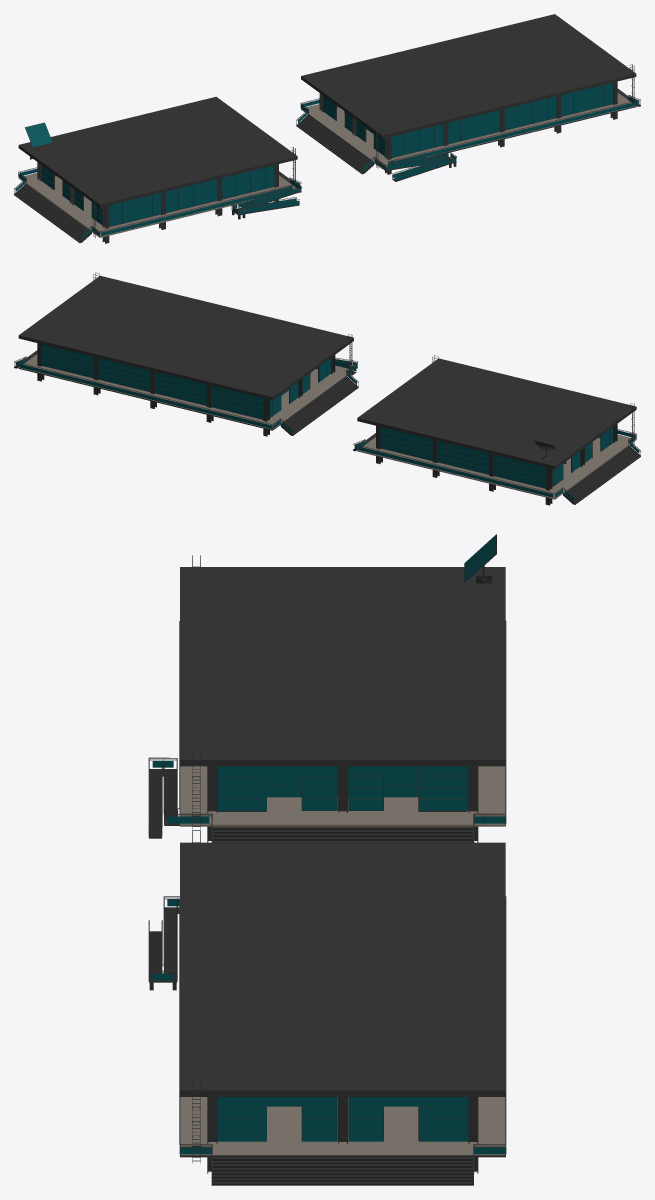
The picture shows the model from 3 angles, top to bottom: view 1: azimuth 30°, elevation 25°; view 2: azimuth 150°, elevation 25°; view 3: azimuth 270°, elevation 25°; orthographic projection. The views are drawn at different scales.
Parts seen in each view (by area): view 1: Ceiling, Curtain, Floor, Railing, Vertical, Columns, Panel; view 2: Ceiling, Curtain, Floor, Railing, Vertical, Columns; view 3: Ceiling, Curtain, Floor, Vertical, Railing, Columns.
Part boxes in pixels (box(x1,y1,x2,y2)): Ceiling: box(18, 14, 636, 207); Curtain: box(41, 82, 612, 226); Floor: box(18, 92, 636, 237); Railing: box(14, 95, 640, 241); Vertical: box(14, 64, 640, 243); Columns: box(37, 81, 617, 243); Panel: box(25, 122, 52, 147); Ceiling: box(18, 275, 636, 469); Curtain: box(42, 344, 613, 488); Floor: box(18, 354, 636, 499); Railing: box(14, 356, 640, 503); Vertical: box(14, 272, 640, 504); Columns: box(37, 343, 617, 505); Ceiling: box(180, 567, 505, 1096); Curtain: box(217, 766, 468, 1141); Floor: box(180, 766, 505, 1157); Vertical: box(149, 555, 473, 1185); Railing: box(148, 621, 506, 1183); Columns: box(207, 766, 478, 1173).
Size of the model in its own units: 99.4 by 11.11 by 27.45.
